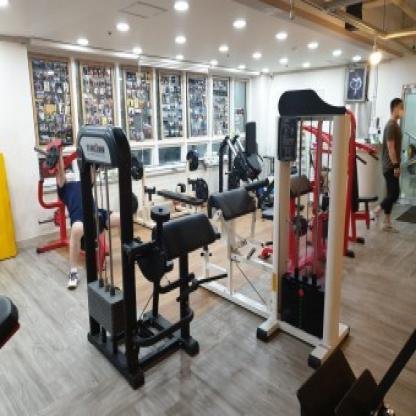arm curl machine: (86, 213, 228, 390)
